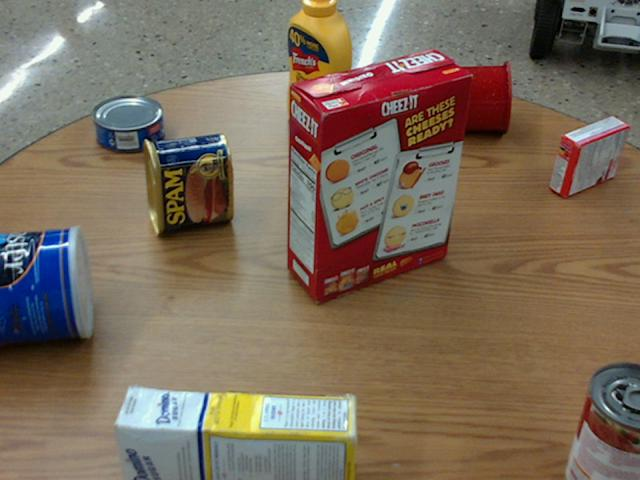cracker_box: (287, 48, 471, 300)
gelatin_box: (550, 117, 629, 198)
master_chef_can: (0, 225, 94, 344)
mug: (441, 59, 511, 133)
mustard_bottle: (286, 0, 350, 140)
potted_meat_can: (142, 131, 231, 232)
sugar_box: (110, 388, 356, 479)
tomato_soup_can: (566, 360, 639, 479)
tuna_fish_can: (92, 94, 163, 150)
